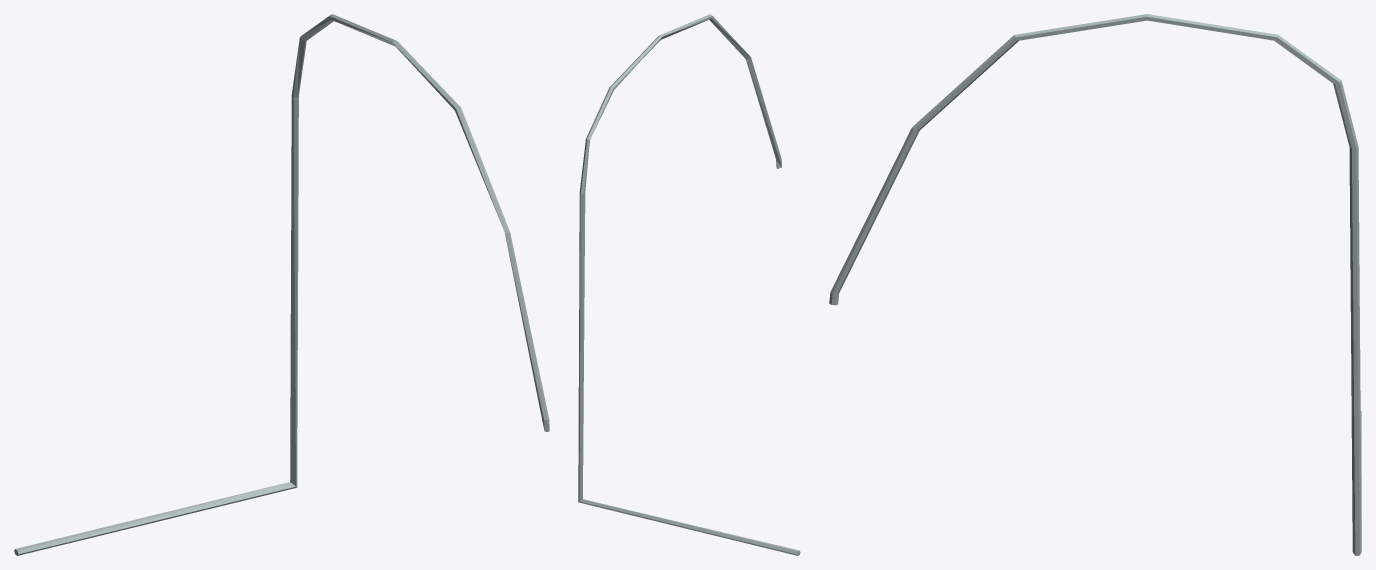
Rendered from xt053-geode.glb.
3 renders of one model, left to right at view 1: azimuth 30°, elevation 25°; view 2: azimuth 150°, elevation 25°; view 3: azimuth 270°, elevation 25°, orthographic. The views are drawn at different scales.
Visible parts, largest first — view 1: Node; view 2: Node; view 3: Node.
Part boxes in pixels (box(x1,y1,x2,y2)): Node: box(14, 14, 549, 555); Node: box(578, 14, 800, 555); Node: box(829, 14, 1361, 555).
Bounding box in the file's own units: 0.2806 × 0.4994 × 0.4457.
1 material, 1 textured.
